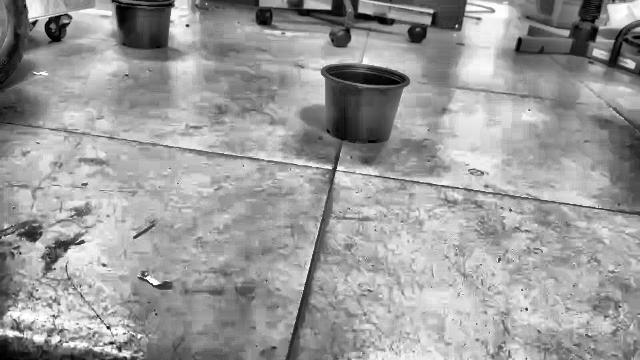pot: (321, 64, 409, 142), (112, 0, 173, 49)
